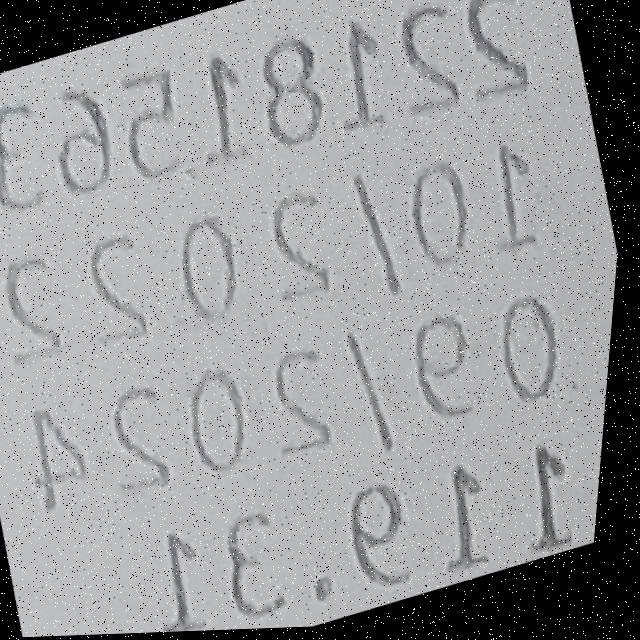sentence: (10, 122, 541, 363), (38, 299, 565, 512), (0, 0, 530, 209), (174, 440, 587, 634)
